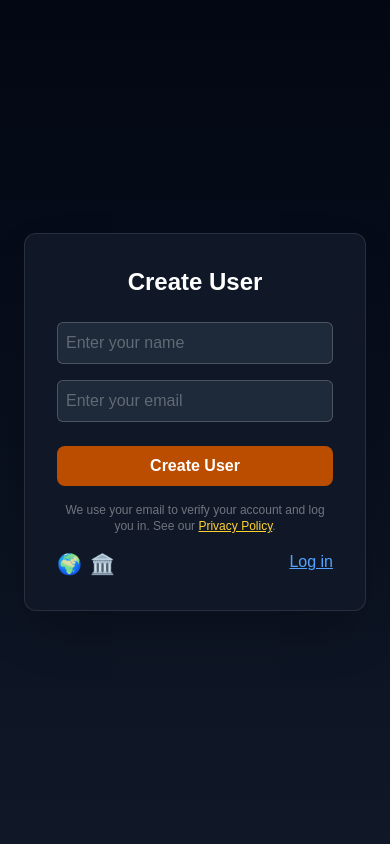
Test: SignupPage › shows an error and does not navigate when the name is already claimed
This screenshot has width=390, height=844.
Type "Alice" into the field with placeholder "Enter your name" at (195, 343), box [57, 322, 333, 364]
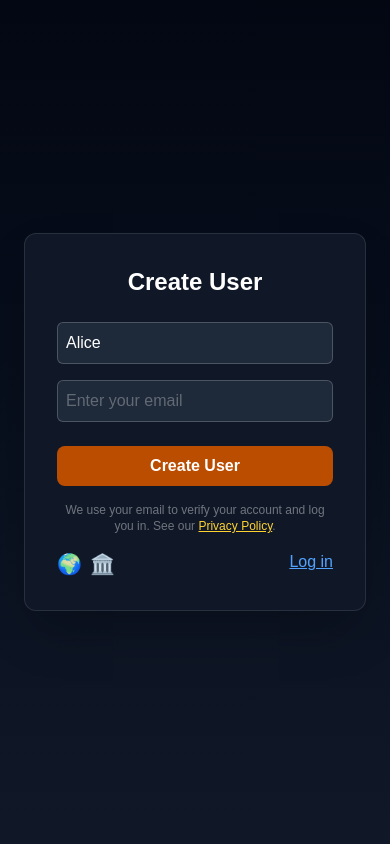
Type "alice@example.com" into the field with placeholder "Enter your email" at (195, 401), box [57, 380, 333, 422]
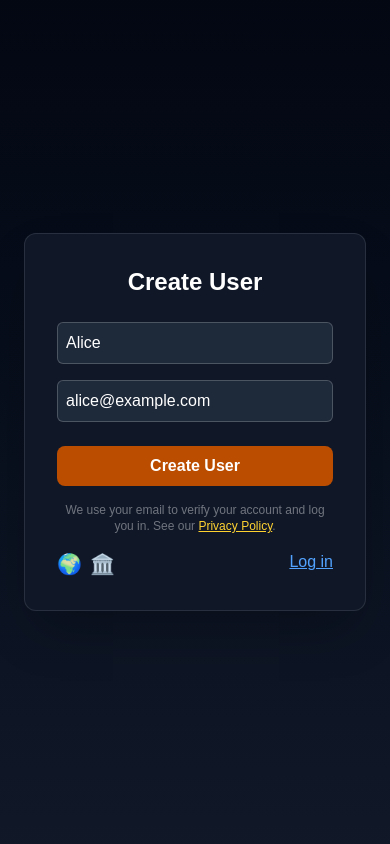
Click the button "Create User" at (195, 466), box [57, 446, 333, 486]
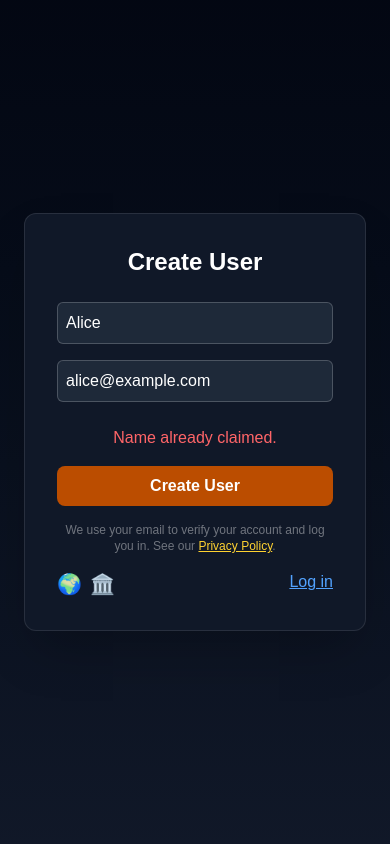
Expected: the text "Name already claimed." is shown, [113, 429, 277, 446]
